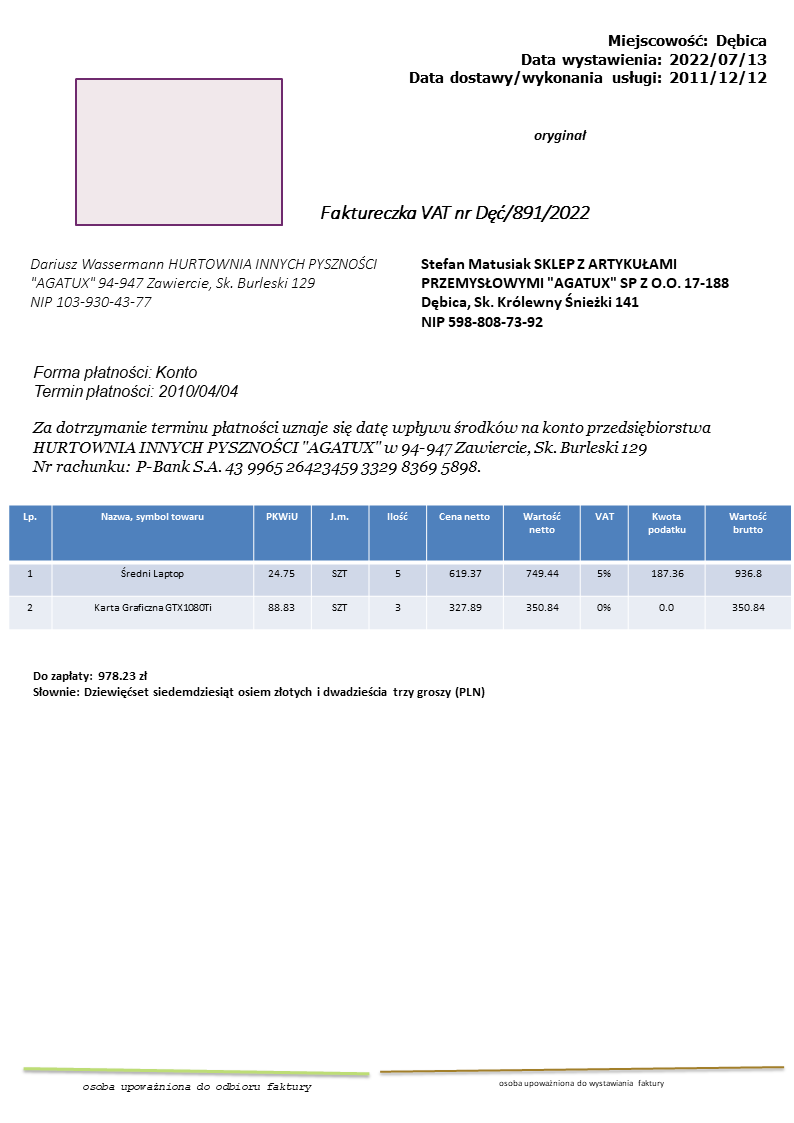Table: (7, 504, 794, 631)
TextBox: (30, 417, 713, 477), (417, 254, 733, 332), (405, 29, 771, 89), (25, 253, 382, 311), (29, 667, 487, 702), (28, 361, 239, 403), (317, 200, 593, 226), (79, 1078, 312, 1096), (495, 1077, 666, 1091), (532, 125, 587, 144)
